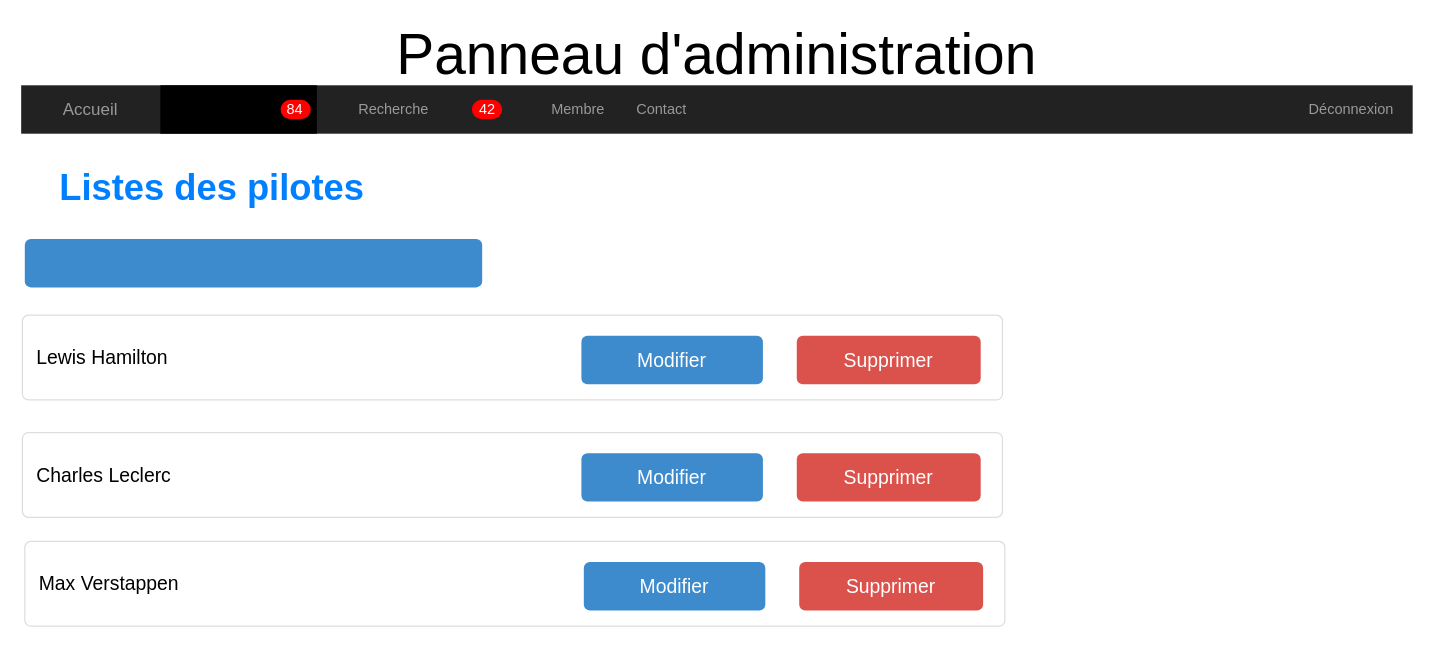
Image size: 1433x647. Some labels were removed from this diagram. The centre of each missing label's shape, as x and y in pixels:
"Ajouter" belongs at point (253, 262).
"Pilotes" belongs at point (238, 109).
